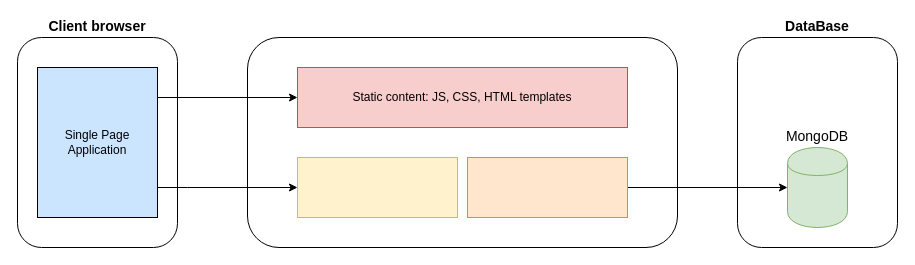
Image size: 915x265. Some labels were removed from this diagram. Here are the shapes that lost their labels. From the top down, the box of each, then its label:
(246, 36, 678, 248): Application Server
(296, 156, 458, 218): REST services
(466, 156, 628, 218): Model modules
